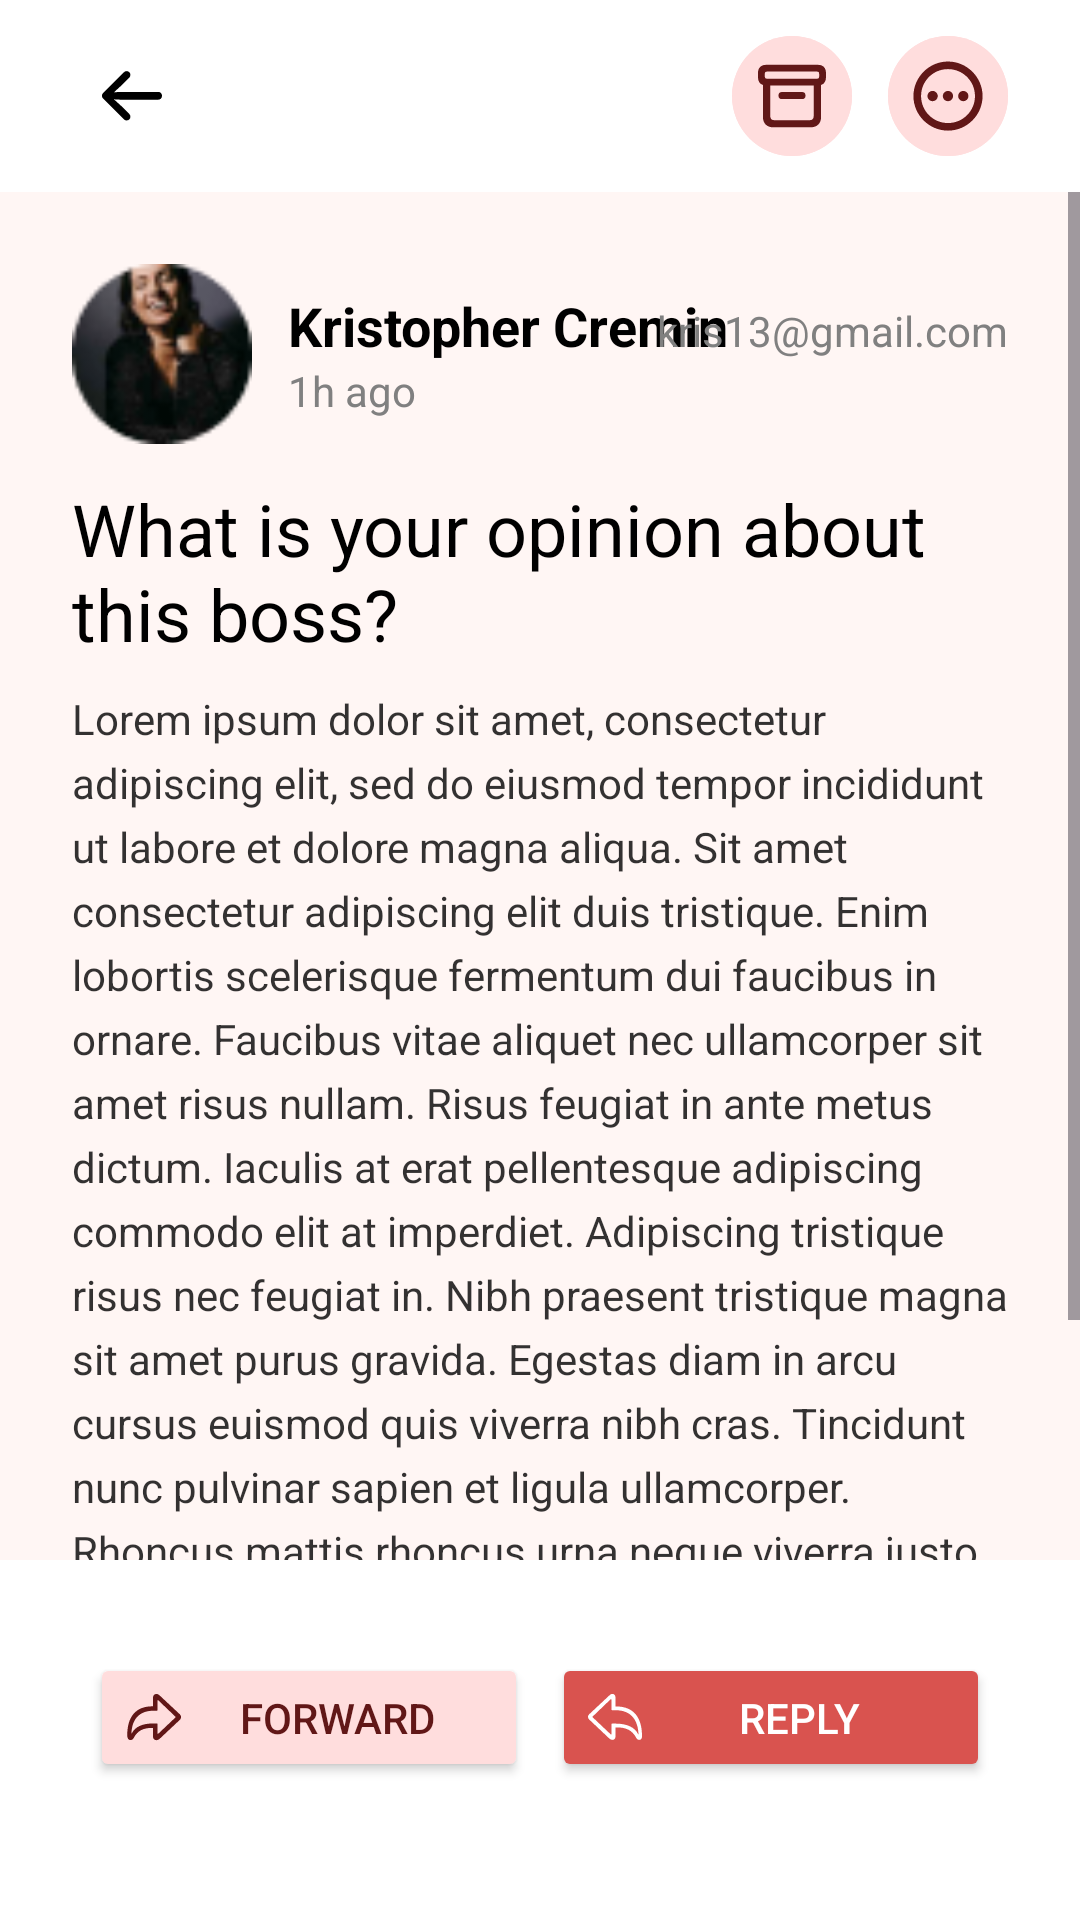

Locate icon controls on the screen. Image size 1080*1920, boxes as (x1, y1, x2, y2).
back arrow: (102, 71, 162, 121)
options: (888, 36, 1008, 156)
profile picture: (72, 264, 252, 444)
